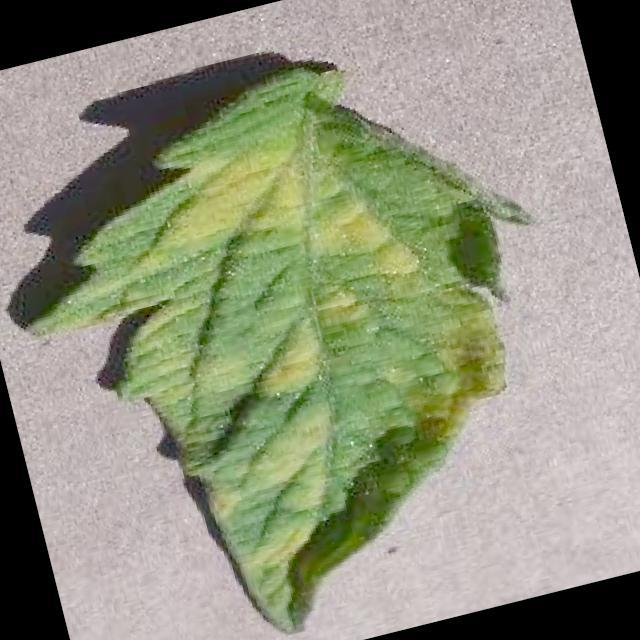Tomato mold leaf: (0, 20, 623, 640)
